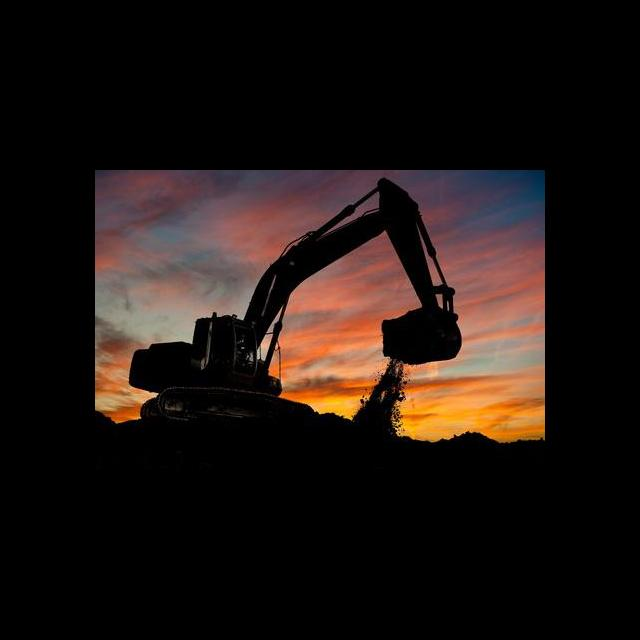Excavator: (127, 178, 463, 432)
